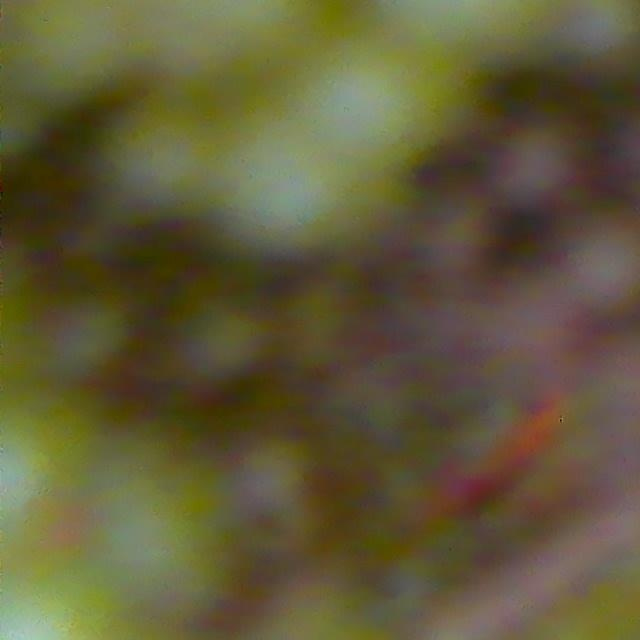SeaGrape: (491, 125, 582, 216), (180, 302, 273, 387), (50, 295, 134, 378), (569, 224, 640, 318)
